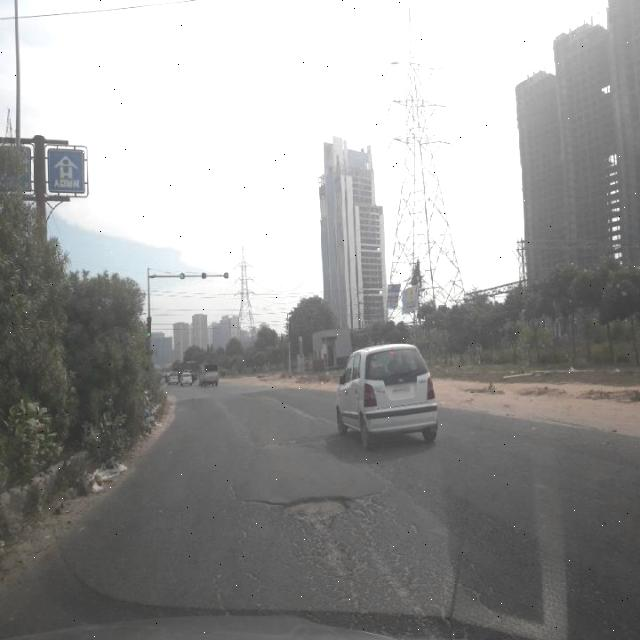D20: (195, 495, 529, 629)
D40: (270, 487, 363, 526)
